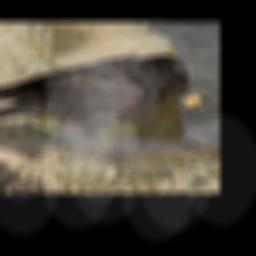Crow: (0, 53, 200, 165)
